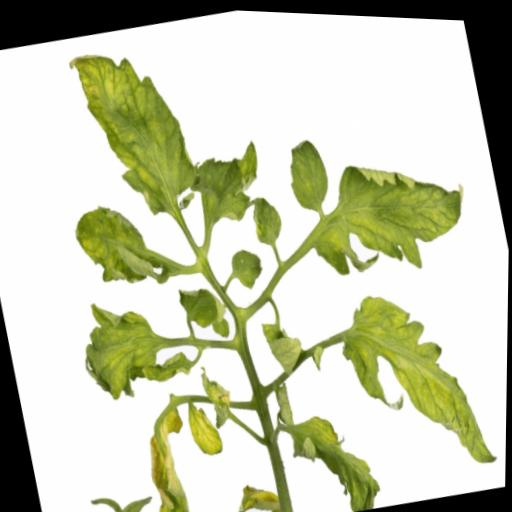Mosaic Virus: (330, 269, 501, 486), (62, 30, 207, 228), (297, 134, 480, 289), (266, 355, 387, 512), (71, 287, 168, 409), (121, 384, 208, 512), (67, 194, 154, 294), (181, 134, 271, 229), (183, 392, 226, 457)
